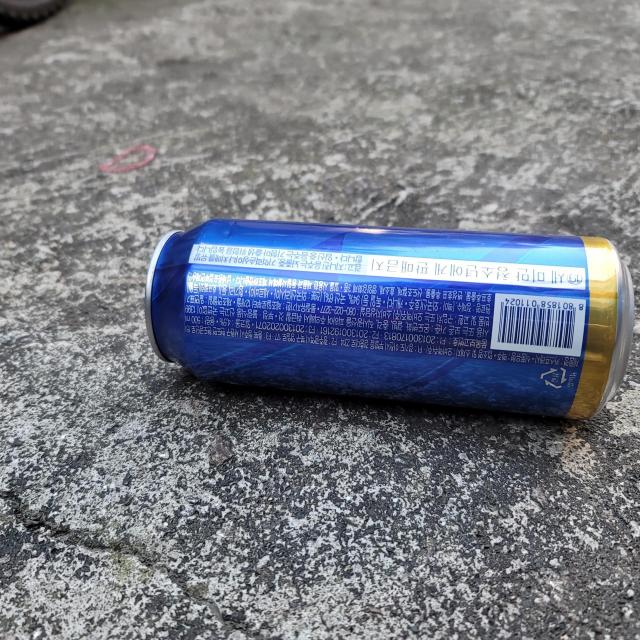can: (145, 219, 634, 419)
